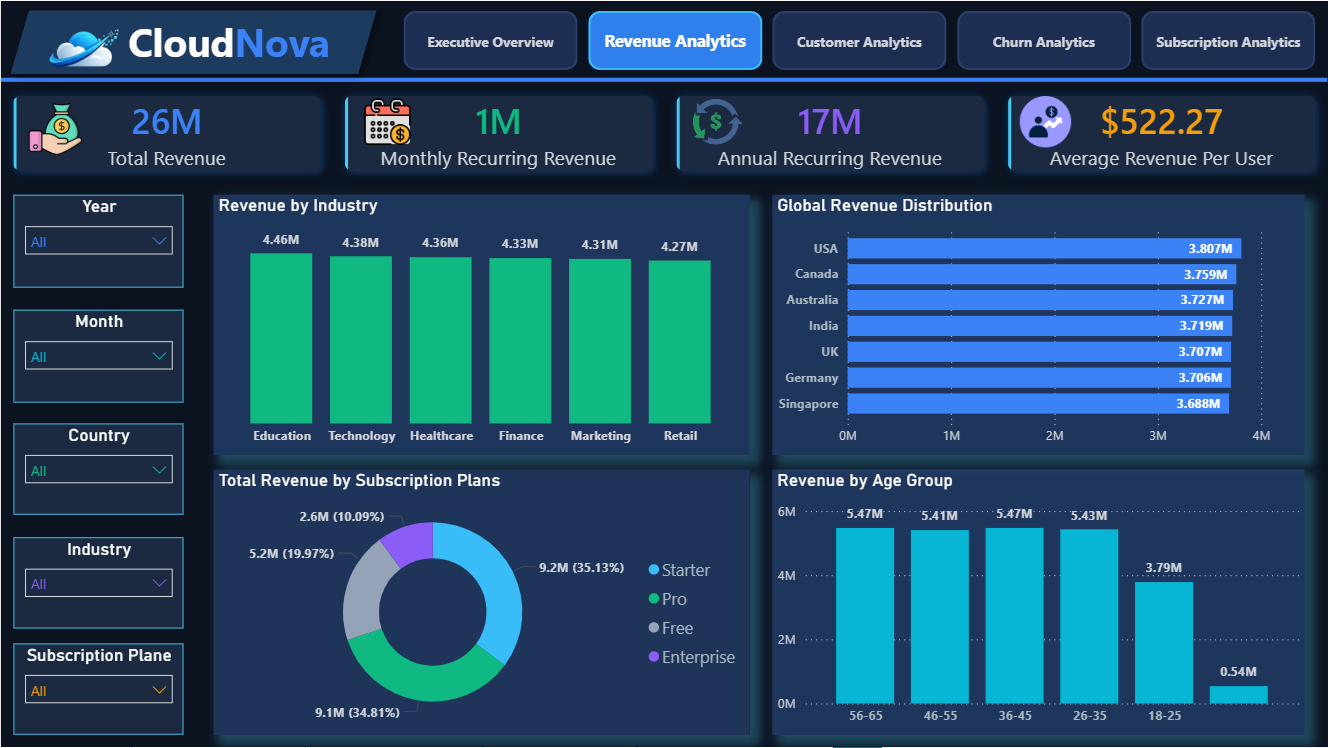

This screenshot's page, from the dashboard's own definition file:
{"tool":"powerbi","page":{"name":"Revenue Analytics","canvas":[1280,720],"ordinal":1},"visuals":[{"type":"cardVisual","fields":{"Data":["customers_cleaned.Total Revenue","customers_cleaned.MRR","customers_cleaned.ARR","customers_cleaned.ARPU"]},"box":[0,79.6,1280,96.5],"z":0},{"type":"shape","box":[0,57.5,1280,36.2],"z":1000},{"type":"image","box":[20.5,94.1,63.9,59.1],"z":2000},{"type":"image","box":[335.4,91.7,74.8,49.5],"z":3000},{"type":"image","box":[661.1,91.7,61.5,49.5],"z":4000},{"type":"image","box":[983.2,91.7,49.5,49.5],"z":5000},{"type":"columnChart","title":"Revenue by Age Group","fields":{"Y":["customers_cleaned.Total Revenue"],"Category":["customers_cleaned.age_group"]},"box":[744.4,452.4,513.9,255.8],"z":6000},{"type":"clusteredColumnChart","title":"Revenue by Industry","fields":{"Category":["customers_cleaned.industry"],"Y":["customers_cleaned.Total Revenue"]},"box":[205.1,187,517.6,250.9],"z":7000},{"type":"clusteredBarChart","title":"Global Revenue Distribution","fields":{"Category":["customers_cleaned.country"],"Y":["customers_cleaned.Total Revenue"]},"box":[744.4,187,513.9,250.9],"z":8000},{"type":"donutChart","title":"Total Revenue by Subscription Plans","fields":{"Category":["subscriptions_cleaned.plan_name"],"Y":["customers_cleaned.Total Revenue"]},"box":[205.1,452.4,517.6,255.8],"z":9000},{"type":"slicer","title":"Year","fields":{"Values":["Date_Table.Year"]},"box":[12.1,187,164.1,89.3],"z":10000},{"type":"slicer","title":"Country","fields":{"Values":["customers_cleaned.country"]},"box":[12.1,407.8,164.1,88.1],"z":11000},{"type":"slicer","title":"Industry","fields":{"Values":["customers_cleaned.industry"]},"box":[12.1,517.6,164.1,88.1],"z":12000},{"type":"slicer","title":"Subscription Plane","fields":{"Values":["subscriptions_cleaned.plan_name"]},"box":[12.1,620.1,164.1,88.1],"z":13000},{"type":"slicer","title":"Month","fields":{"Values":["Date_Table.Month"]},"box":[12.1,298,164.1,89.3],"z":14000},{"type":"shape","box":[0,0,371.6,79.6],"z":15000},{"type":"textbox","box":[94.1,9.7,252.1,70],"z":16000},{"type":"image","box":[0,0,159.3,91.7],"z":17000},{"type":"pageNavigator","box":[388.5,9.7,884.3,57.9],"z":18000}]}

Visuals, with their boxes in screenshot pixels (x1, y1, x2, y2), scaled from the page's 1280x720 canvas onto the 1328x748 screenshot:
cardVisual - customers_cleaned.Total Revenue x customers_cleaned.MRR: 0,83,1327,183
shape: 0,60,1327,97
image: 21,98,88,159
image: 348,95,426,147
image: 686,95,750,147
image: 1020,95,1071,147
"Revenue by Age Group" columnChart: 772,470,1305,736
"Revenue by Industry" clusteredColumnChart: 213,194,750,455
"Global Revenue Distribution" clusteredBarChart: 772,194,1305,455
"Total Revenue by Subscription Plans" donutChart: 213,470,750,736
"Year" slicer: 13,194,183,287
"Country" slicer: 13,424,183,515
"Industry" slicer: 13,538,183,629
"Subscription Plane" slicer: 13,644,183,736
"Month" slicer: 13,310,183,402
shape: 0,0,386,83
textbox: 98,10,359,83
image: 0,0,165,95
pageNavigator: 403,10,1321,70
